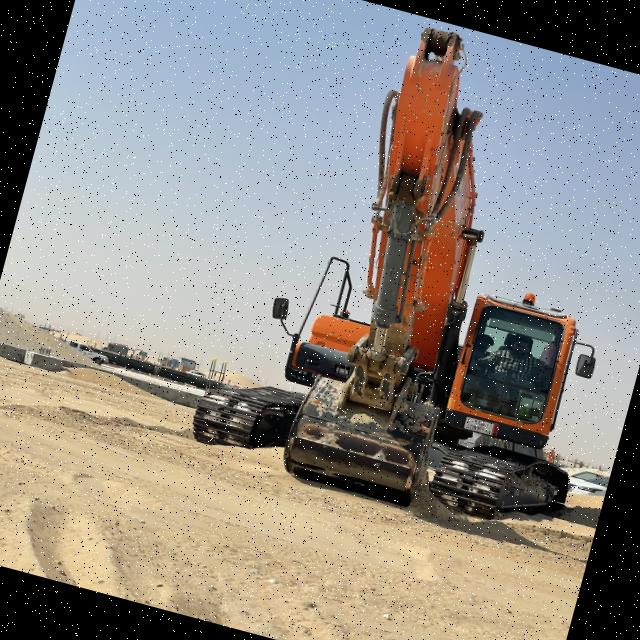Excavator: (181, 0, 640, 547)
